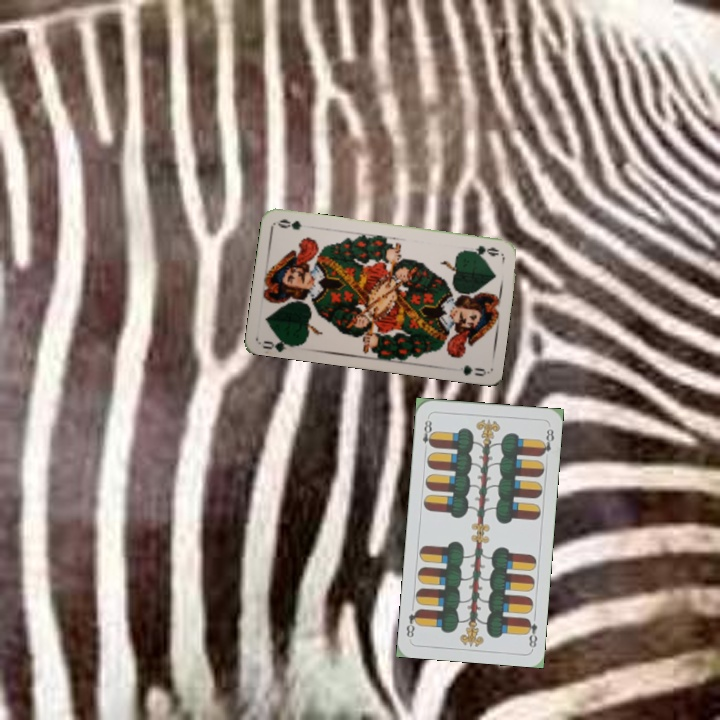E8: (418, 413, 436, 449), (522, 615, 540, 650)
GO: (259, 333, 300, 353), (462, 241, 502, 259)
